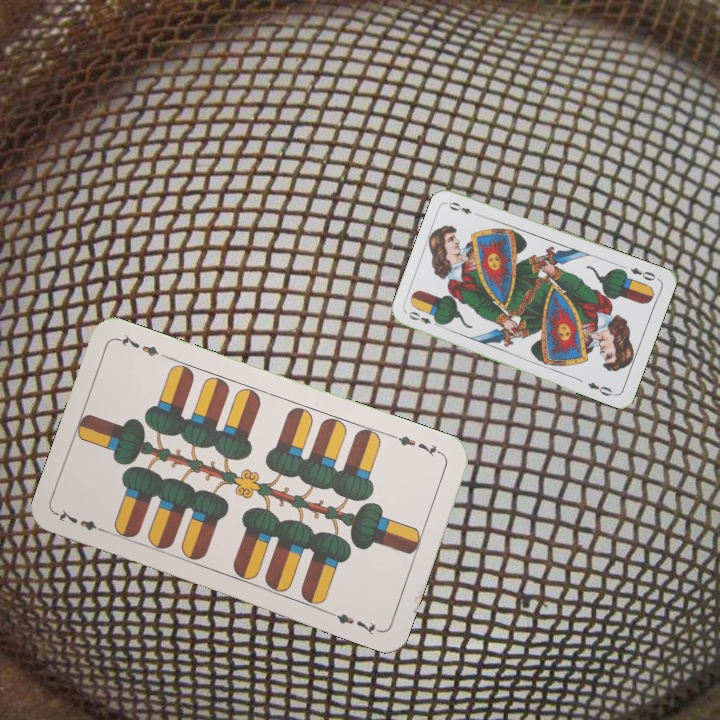E7: (53, 505, 110, 536), (388, 430, 445, 460)
EO: (404, 307, 443, 330), (626, 263, 661, 284)
